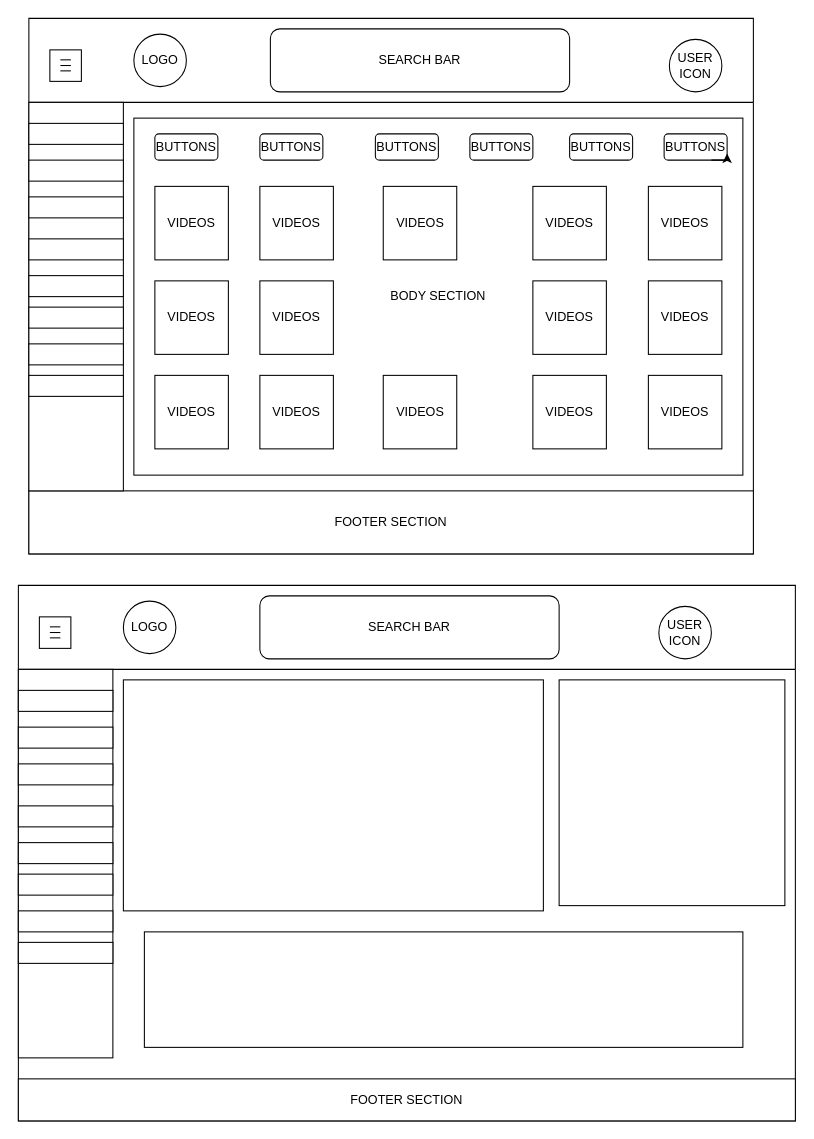
Image size: 814x1139. Some labels were removed from this diagram. The shapes that lost their labels are listed below. From the top down, each one's centre as x and y in pixels, then its label:
the point at 332,795: VIDEO WILL BE PLAYING HERE
the point at 671,792: CHAT SECTION
the point at 443,989: COMMENT SECTION
